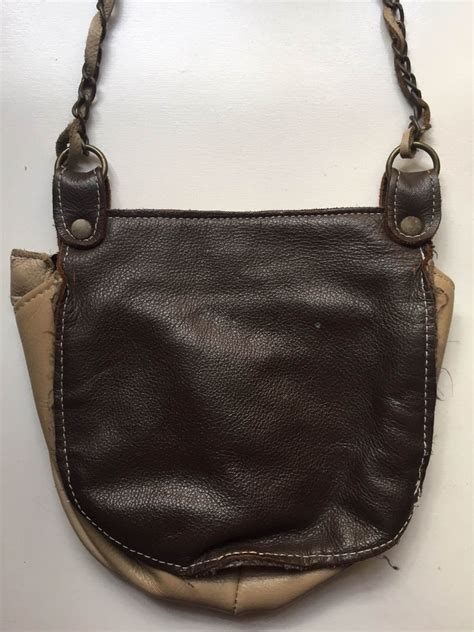cuero: (9, 1, 456, 617)
